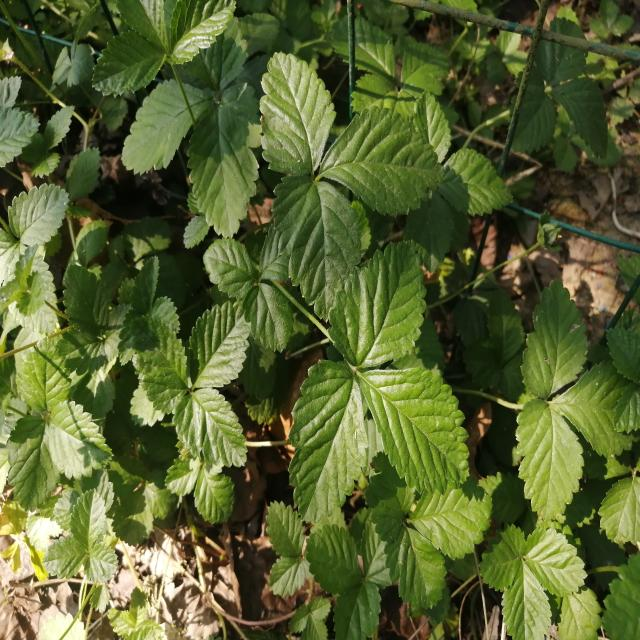Mock_strawberry: (272, 235, 472, 540), (242, 55, 458, 309), (506, 302, 640, 538), (144, 299, 272, 513)
